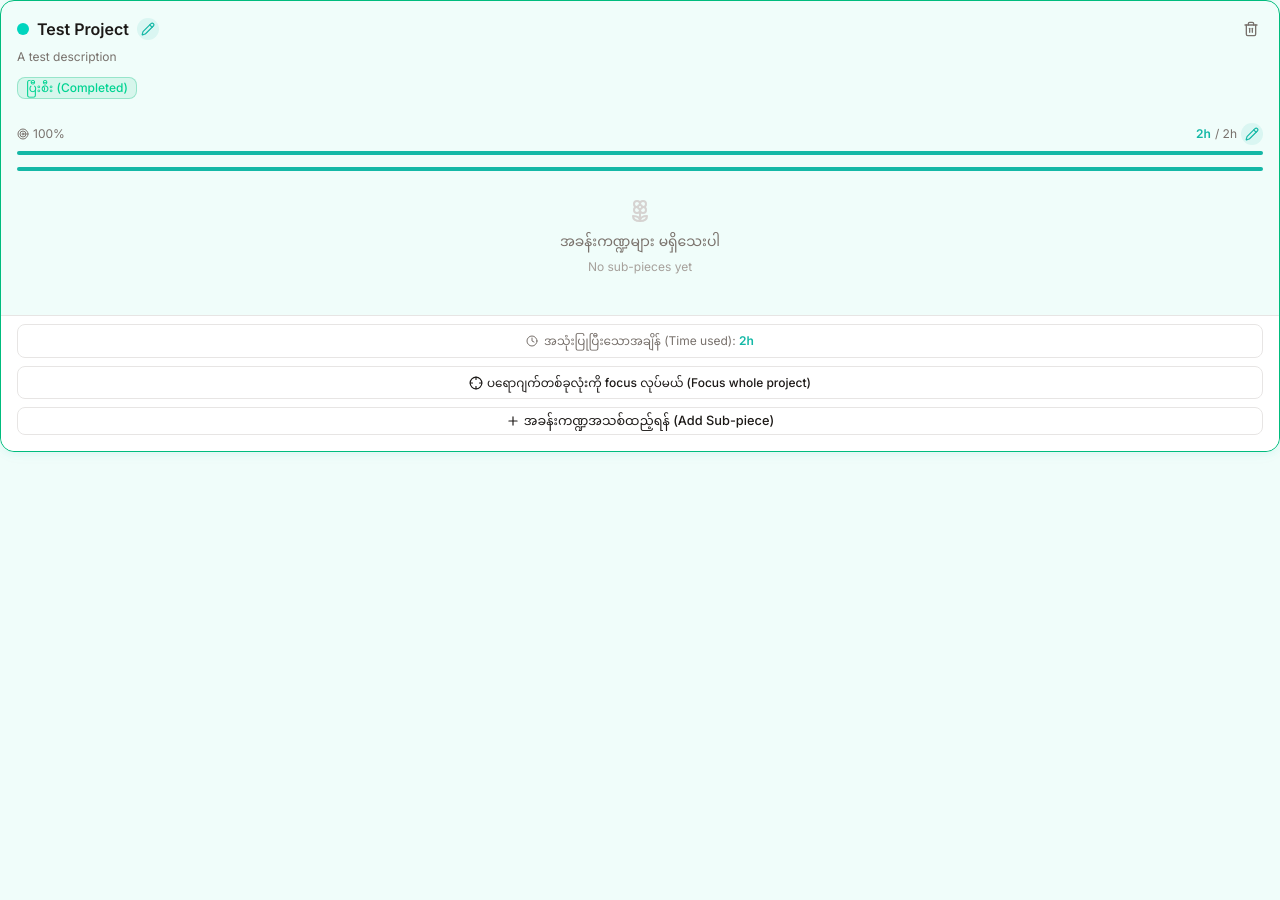
Test: ProjectCard › clicking focus button on a completed project opens the confirmation dialog
The width and height of the screenshot is (1280, 900).
Click the button "ပရောဂျက်တစ်ခုလုံးကို focus လုပ်မယ် (Focus whole project)".
click(640, 382)  # box [17,366,1263,399]
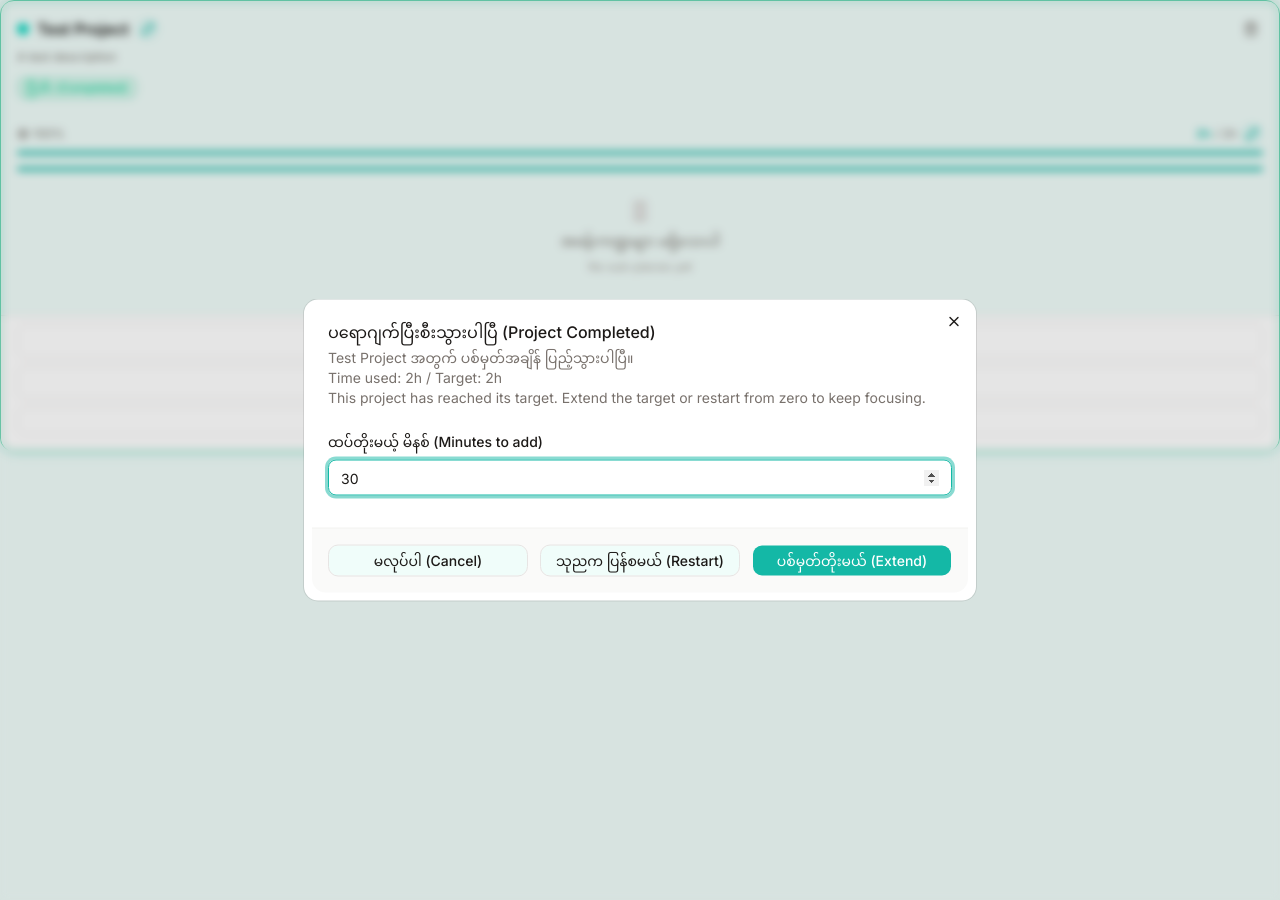
Expected: the heading "ပရောဂျက်ပြီးစီးသွားပါပြီ (Project Completed)" is shown, [328,322,656,342]
